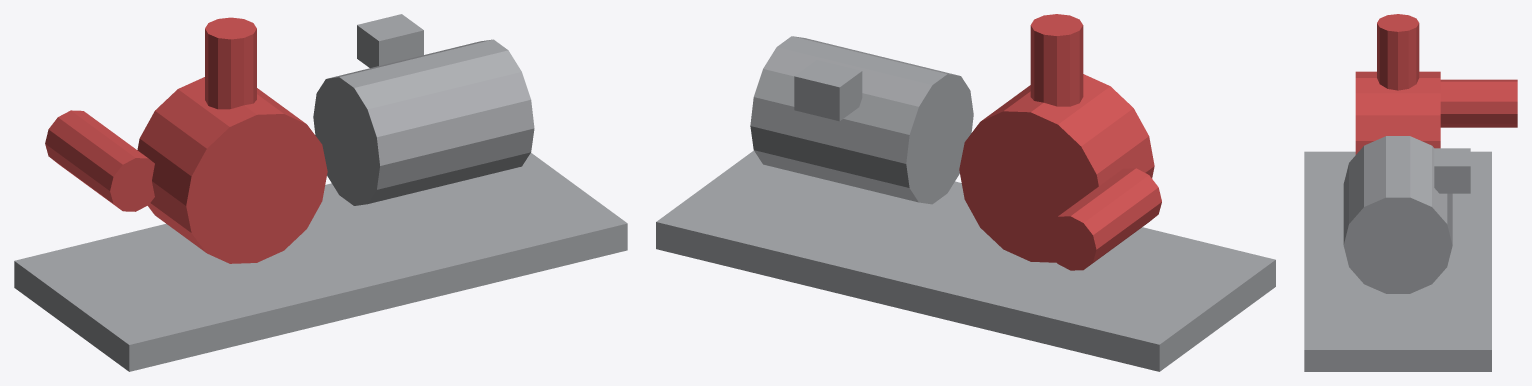
File: fire-pump.glb
3 renders of one model, left to right at view 1: azimuth 30°, elevation 25°; view 2: azimuth 150°, elevation 25°; view 3: azimuth 270°, elevation 25°, orthographic. The views are drawn at different scales.
Parts seen in each view (by area): view 1: fire-pump_PumpSteel, fire-pump_PumpRed; view 2: fire-pump_PumpSteel, fire-pump_PumpRed; view 3: fire-pump_PumpSteel, fire-pump_PumpRed.
Boxes of the visible parts, left/top/right/bottom form: fire-pump_PumpSteel: left=14, top=14, right=627, bottom=371; fire-pump_PumpRed: left=45, top=17, right=327, bottom=263; fire-pump_PumpSteel: left=656, top=36, right=1275, bottom=371; fire-pump_PumpRed: left=959, top=14, right=1161, bottom=270; fire-pump_PumpSteel: left=1304, top=136, right=1491, bottom=371; fire-pump_PumpRed: left=1355, top=14, right=1517, bottom=154.
Bounding box in the file's own units: 1.55 × 0.78 × 0.705.
